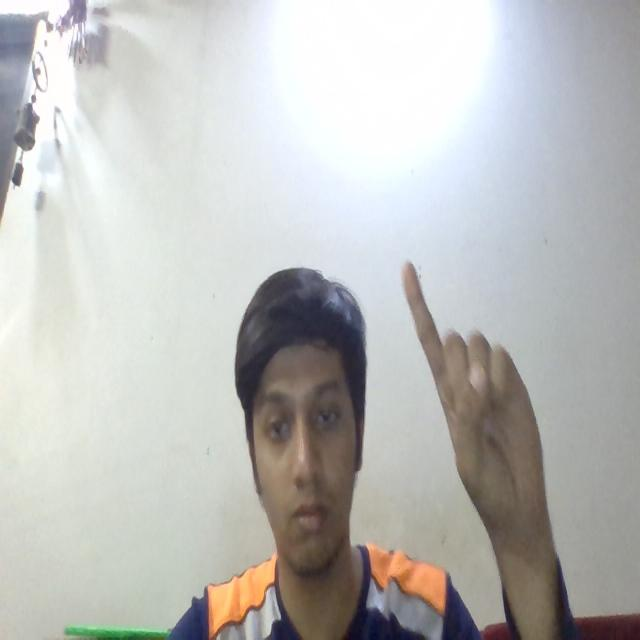Z: (387, 248, 571, 547)
